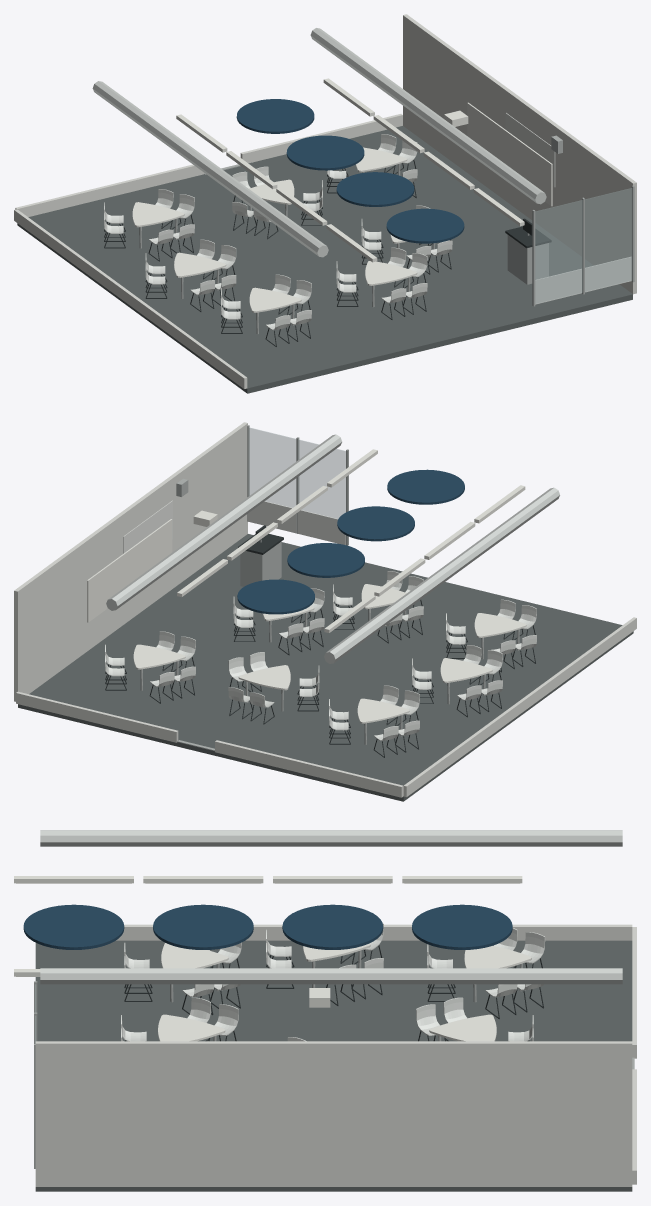
File: cbg-205-interior-95b5e5b63de2.glb
3 renders of one model, top to bottom at view 1: azimuth 30°, elevation 25°; view 2: azimuth 150°, elevation 25°; view 3: azimuth 270°, elevation 25°, orthographic. The views are drawn at different scales.
Visible parts, largest first — view 1: cbg-205; view 2: cbg-205; view 3: cbg-205.
Boxes of the visible parts, left/top/right/bottom form: cbg-205: left=14, top=14, right=636, bottom=393; cbg-205: left=14, top=422, right=636, bottom=801; cbg-205: left=14, top=830, right=636, bottom=1191.
Bounding box in the file's own units: 12.26 × 3.82 × 12.99.
